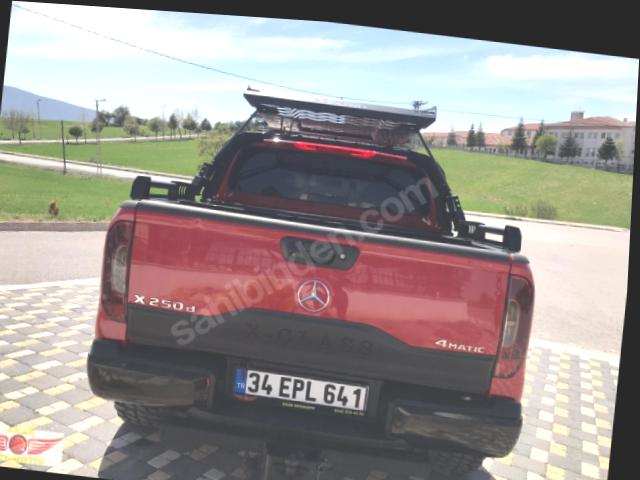plaka: (235, 369, 368, 411)
